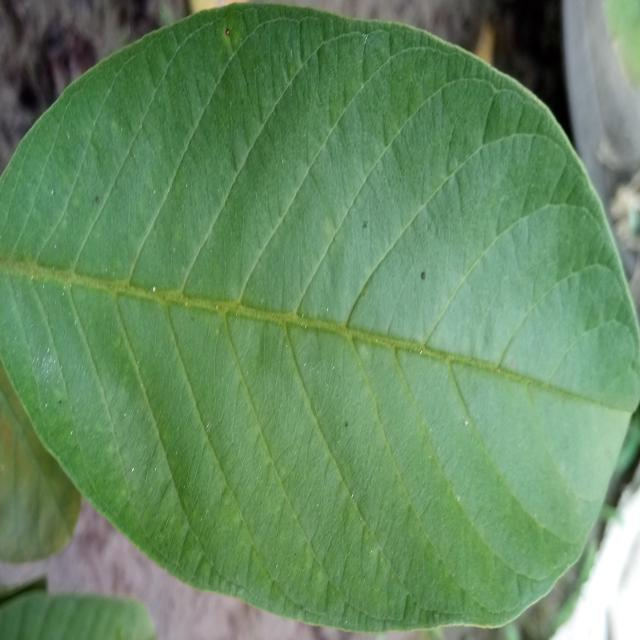Disease Free: (0, 4, 640, 629)
